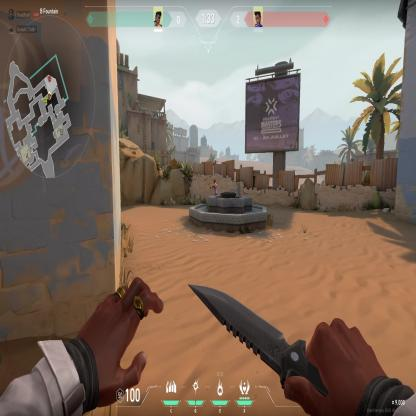enemy: (212, 179, 218, 196)
